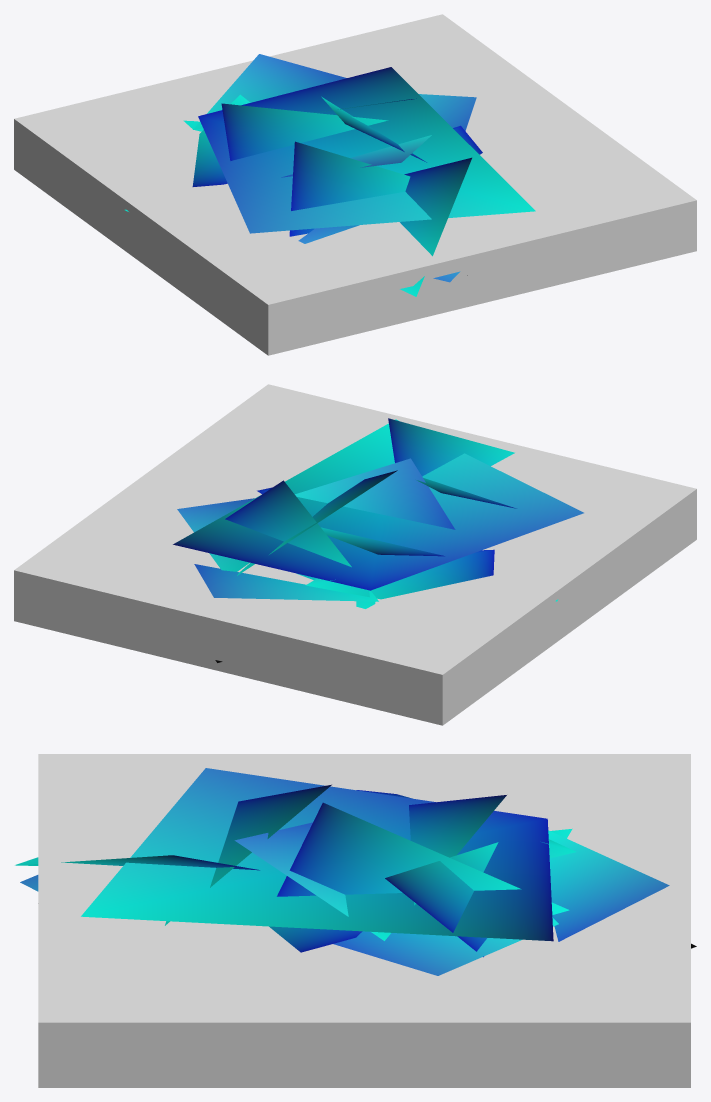
File: lush_general_01_b.dae
3 renders of one model, top to bottom at view 1: azimuth 30°, elevation 25°; view 2: azimuth 150°, elevation 25°; view 3: azimuth 270°, elevation 25°, orthographic. The views are drawn at different scales.
Parts seen in each view (by area): view 1: Untitled, tree_oak_bush_a50, tree_oak_bush_a450; view 2: Untitled, tree_oak_bush_a50, tree_oak_bush_a450; view 3: Untitled, tree_oak_bush_a450, tree_oak_bush_a50.
Part boxes in pixels (x1,y1,x2,y2): Untitled: (14,14,696,355); tree_oak_bush_a50: (198,67,535,233); tree_oak_bush_a450: (125,54,482,296); Untitled: (14,384,696,725); tree_oak_bush_a50: (173,419,583,590); tree_oak_bush_a450: (177,418,558,662); Untitled: (38,754,690,1087); tree_oak_bush_a450: (15,784,696,975); tree_oak_bush_a50: (81,768,553,941).
Size of the model in its own units: 2.25 by 2.41 by 0.5231.
